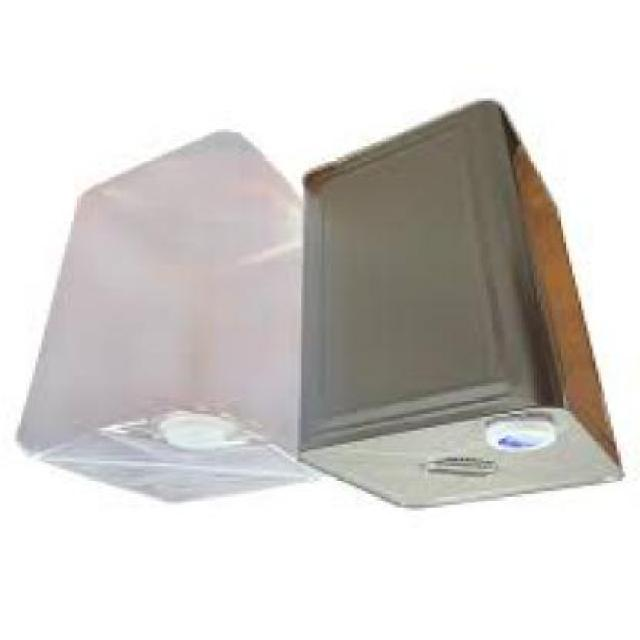metal: (305, 104, 629, 510), (17, 135, 325, 511)
